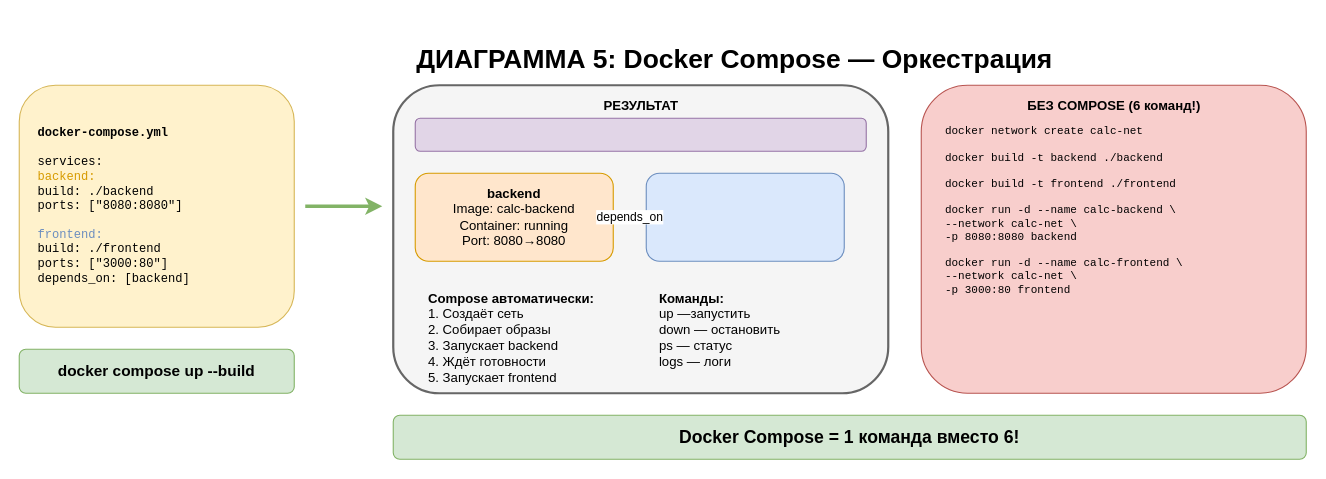
The diagram is 1326 pixels wide and 479 high, and some of its shapes have lost their labels. The centre of each missing label's shape, as x and y in pixels:
"frontend Image: calc-frontend Container: running Port: 3000→80" goes at (x=744, y=216).
"🌐 Сеть: calculator_default (автоматически)" goes at (x=640, y=134).
